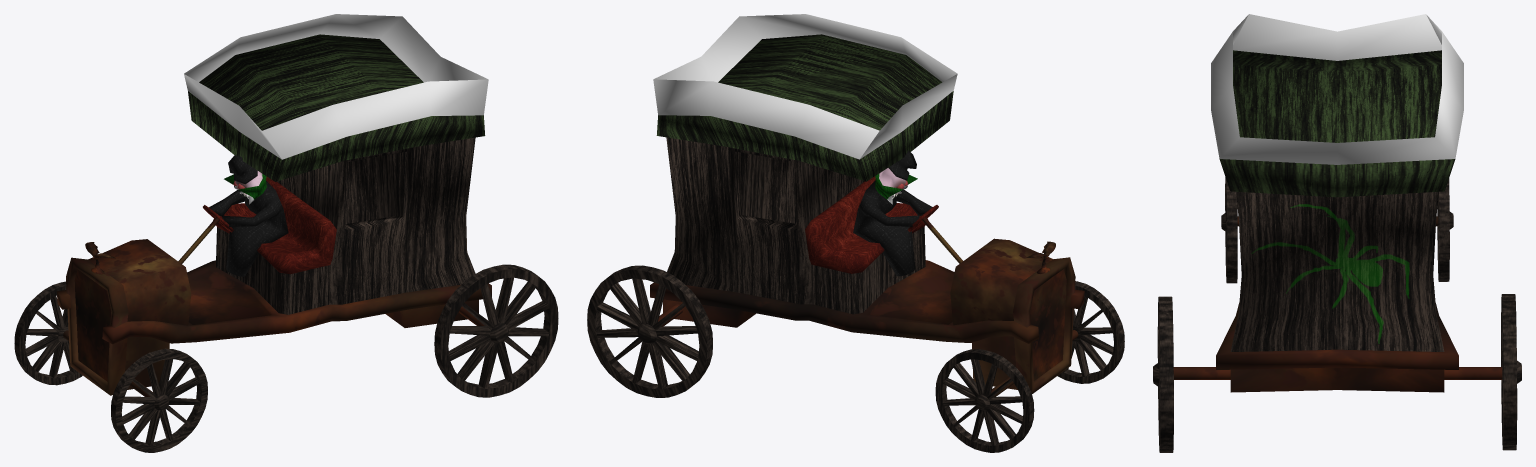
The model's file is kart.fbx.
3 views of the same model, side by side, from view 1: azimuth 30°, elevation 25°; view 2: azimuth 150°, elevation 25°; view 3: azimuth 270°, elevation 25° (orthographic). The views are drawn at different scales.
Visible parts, largest first — view 1: wood, rusty, roof, rearwheels, frontwheels, hood, Cylinder, leather; view 2: wood, rusty, roof, rearwheels, frontwheels, hood, Cylinder, leather; view 3: wood, roof, rusty, rearwheels, frontwheels.
Boxes of the visible parts, x1,y1,x2,y2 form: wood: (188,34,485,314); rusty: (56,217,491,396); roof: (184,14,488,159); rearwheels: (434,264,558,397); frontwheels: (14,281,207,452); hood: (74,239,191,381); Cylinder: (209,155,288,276); leather: (203,176,336,274); wood: (656,34,953,314); rusty: (650,217,1084,396); roof: (653,14,957,159); rearwheels: (587,265,712,397); frontwheels: (935,281,1124,452); hood: (950,238,1066,380); Cylinder: (853,150,932,276); leather: (805,176,938,273); wood: (1219,50,1455,351); roof: (1211,14,1463,164); rusty: (1173,216,1502,392); rearwheels: (1153,294,1521,452); frontwheels: (1221,177,1453,283).
Bounding box in the file's own units: 1095 × 757 × 740.
